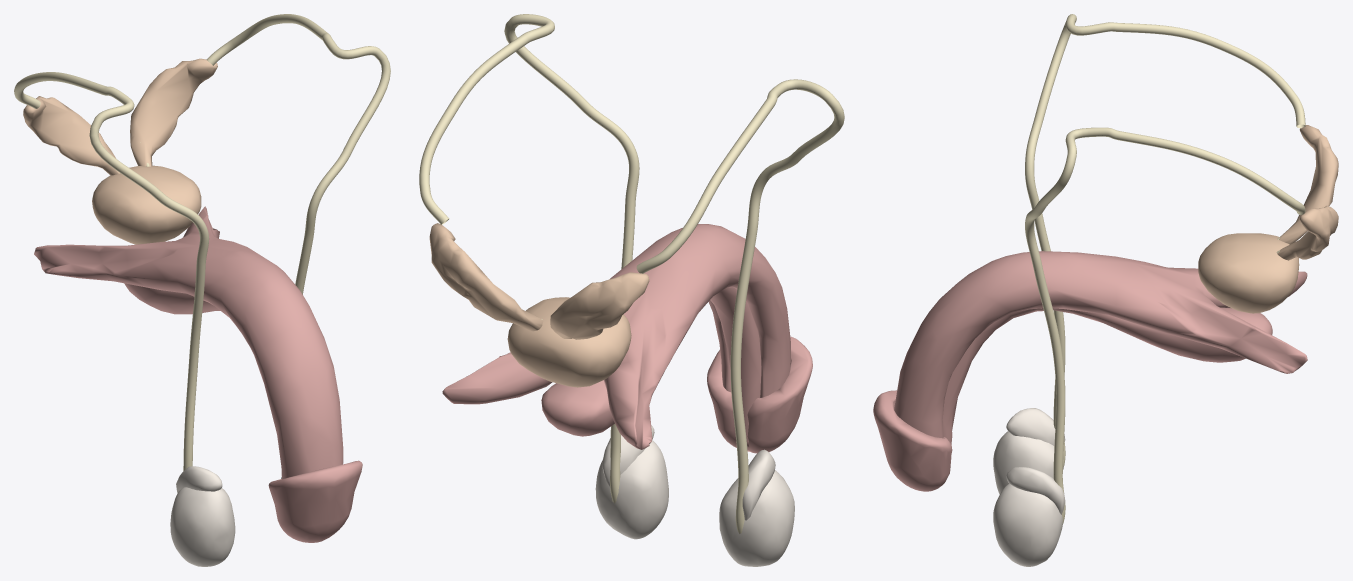
3 views of the same model, side by side, from view 1: azimuth 30°, elevation 25°; view 2: azimuth 150°, elevation 25°; view 3: azimuth 270°, elevation 25° (orthographic). The views are drawn at different scales.
Visible parts, largest first — view 1: Repro_Corpus_Cavernosum_Of_Penis, Repro_Prostate, Repro_Ductus_Deferens_Right, Repro_Glans_Penis, Repro_Seminal_Gland_Left, Repro_Ductus_Deferens_Left, Repro_Testis_Right, Repro_Seminal_Gland_Right, Repro_Corpus_Spongiosum_Of_Penis, Repro_Epididymis_Right; view 2: Repro_Corpus_Cavernosum_Of_Penis, Repro_Ductus_Deferens_Right, Repro_Ductus_Deferens_Left, Repro_Prostate, Repro_Corpus_Spongiosum_Of_Penis, Repro_Glans_Penis, Repro_Testis_Right, Repro_Testis_Left, Repro_Seminal_Gland_Left, Repro_Seminal_Gland_Right, Repro_Epididymis_Right, Repro_Epididymis_Left; view 3: Repro_Corpus_Cavernosum_Of_Penis, Repro_Prostate, Repro_Ductus_Deferens_Left, Repro_Ductus_Deferens_Right, Repro_Corpus_Spongiosum_Of_Penis, Repro_Glans_Penis, Repro_Testis_Left, Repro_Seminal_Gland_Right, Repro_Testis_Right, Repro_Seminal_Gland_Left, Repro_Epididymis_Left, Repro_Epididymis_Right.
Boxes of the visible parts, box(x1,y1,x2,y2) form: Repro_Corpus_Cavernosum_Of_Penis: box(34, 206, 343, 479); Repro_Prostate: box(92, 165, 201, 244); Repro_Ductus_Deferens_Right: box(14, 72, 209, 470); Repro_Glans_Penis: box(268, 460, 362, 542); Repro_Seminal_Gland_Left: box(130, 58, 217, 166); Repro_Ductus_Deferens_Left: box(206, 14, 390, 294); Repro_Testis_Right: box(170, 487, 235, 566); Repro_Seminal_Gland_Right: box(23, 96, 119, 175); Repro_Corpus_Spongiosum_Of_Penis: box(124, 283, 220, 314); Repro_Epididymis_Right: box(176, 466, 222, 493); Repro_Corpus_Cavernosum_Of_Penis: box(442, 224, 790, 449); Repro_Ductus_Deferens_Right: box(636, 79, 844, 533); Repro_Ductus_Deferens_Left: box(419, 14, 639, 503); Repro_Prostate: box(507, 297, 631, 387); Repro_Corpus_Spongiosum_Of_Penis: box(541, 287, 761, 447); Repro_Glans_Penis: box(707, 336, 812, 453); Repro_Testis_Right: box(719, 470, 794, 566); Repro_Testis_Left: box(595, 440, 668, 539); Repro_Seminal_Gland_Left: box(429, 223, 543, 331); Repro_Seminal_Gland_Right: box(550, 272, 649, 339); Repro_Epididymis_Right: box(742, 449, 775, 520); Repro_Epididymis_Left: box(602, 425, 654, 486); Repro_Corpus_Cavernosum_Of_Penis: box(894, 251, 1307, 438); Repro_Prostate: box(1198, 233, 1299, 313); Repro_Ductus_Deferens_Left: box(1025, 127, 1305, 524); Repro_Ductus_Deferens_Right: box(1025, 14, 1305, 469); Repro_Corpus_Spongiosum_Of_Penis: box(942, 307, 1272, 474); Repro_Glans_Penis: box(873, 390, 952, 491); Repro_Testis_Left: box(993, 483, 1062, 566); Repro_Seminal_Gland_Right: box(1279, 125, 1338, 244); Repro_Testis_Right: box(993, 431, 1063, 494); Repro_Seminal_Gland_Left: box(1277, 206, 1338, 260); Repro_Epididymis_Left: box(1006, 467, 1065, 514); Repro_Epididymis_Right: box(1006, 408, 1065, 445).
Size of the model in its own units: 0.1123 by 0.1654 by 0.151.
